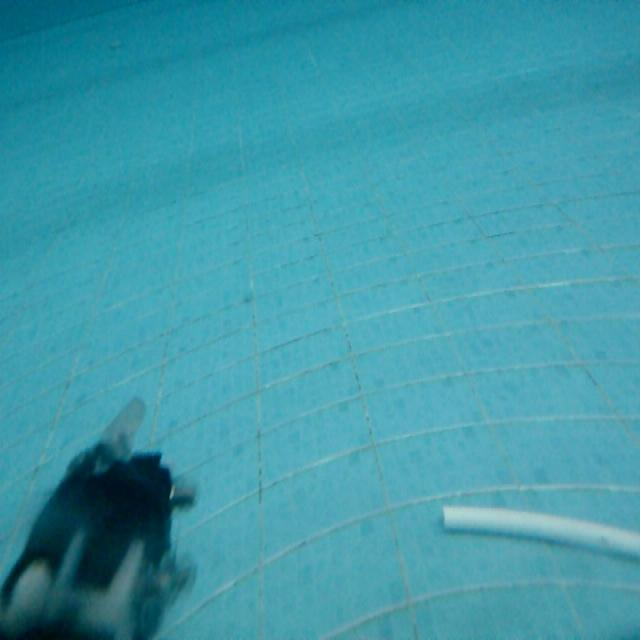Cube: (439, 495, 639, 580)
